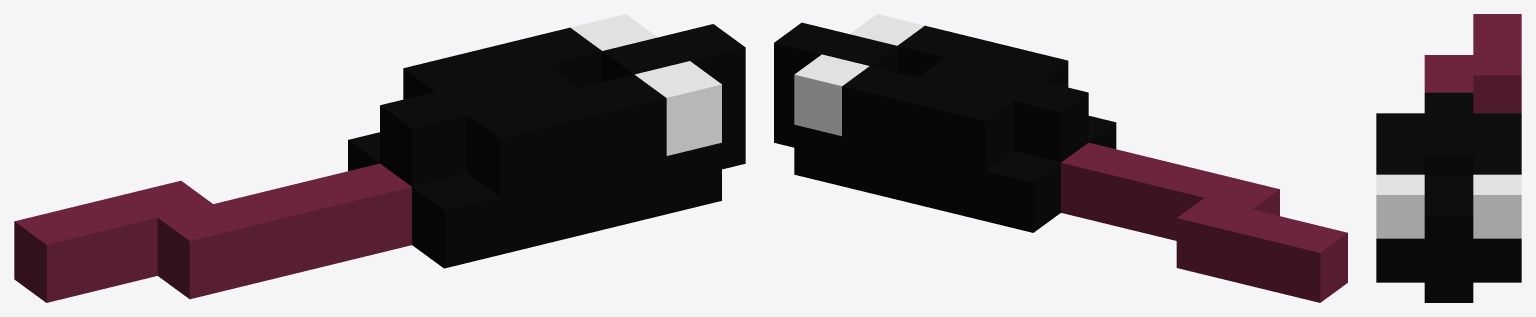
The model's file is lvl1-30.obj.
3 renders of one model, left to right at view 1: azimuth 30°, elevation 25°; view 2: azimuth 150°, elevation 25°; view 3: azimuth 270°, elevation 25°, orthographic. The views are drawn at different scales.
Size of the model in its own units: 1.2 by 0.2 by 0.3.
1 material, 1 textured.
